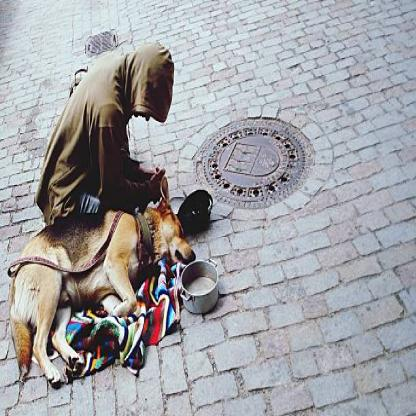manholes: (194, 112, 310, 210)
